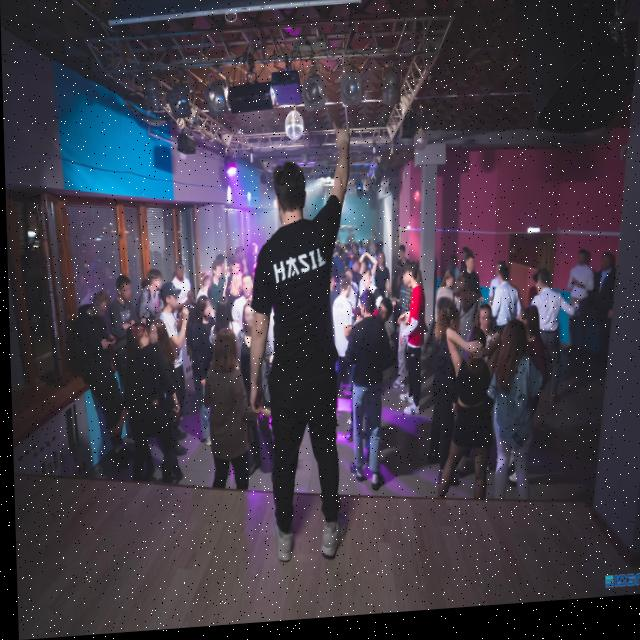Person: (235, 121, 368, 574), (428, 332, 498, 511), (73, 287, 128, 499), (192, 327, 250, 499), (483, 324, 536, 511), (343, 290, 388, 496), (118, 320, 167, 493), (431, 307, 463, 498), (522, 280, 567, 415), (144, 318, 183, 447), (579, 262, 623, 372), (234, 301, 265, 444), (403, 266, 427, 430), (108, 273, 137, 407), (154, 282, 186, 392), (562, 255, 589, 369), (391, 272, 413, 404), (511, 309, 547, 389), (188, 295, 216, 397), (490, 272, 522, 346), (450, 281, 480, 350), (135, 268, 162, 332), (471, 304, 495, 365), (429, 271, 456, 325), (458, 259, 484, 310), (206, 262, 227, 307), (369, 299, 396, 333), (173, 264, 191, 306), (194, 271, 214, 306), (373, 257, 389, 299), (393, 246, 409, 277), (236, 274, 254, 301), (356, 271, 371, 301), (336, 277, 352, 305), (245, 244, 260, 272), (457, 249, 473, 275), (443, 257, 457, 283), (348, 263, 361, 285), (228, 246, 239, 267), (229, 263, 239, 282), (350, 247, 361, 264), (235, 248, 246, 264), (336, 251, 343, 276), (342, 259, 351, 278)
